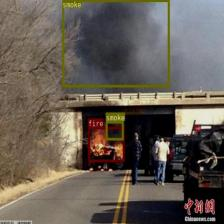fire: (87, 127, 124, 162)
smoke: (61, 0, 169, 86), (106, 120, 124, 140)
